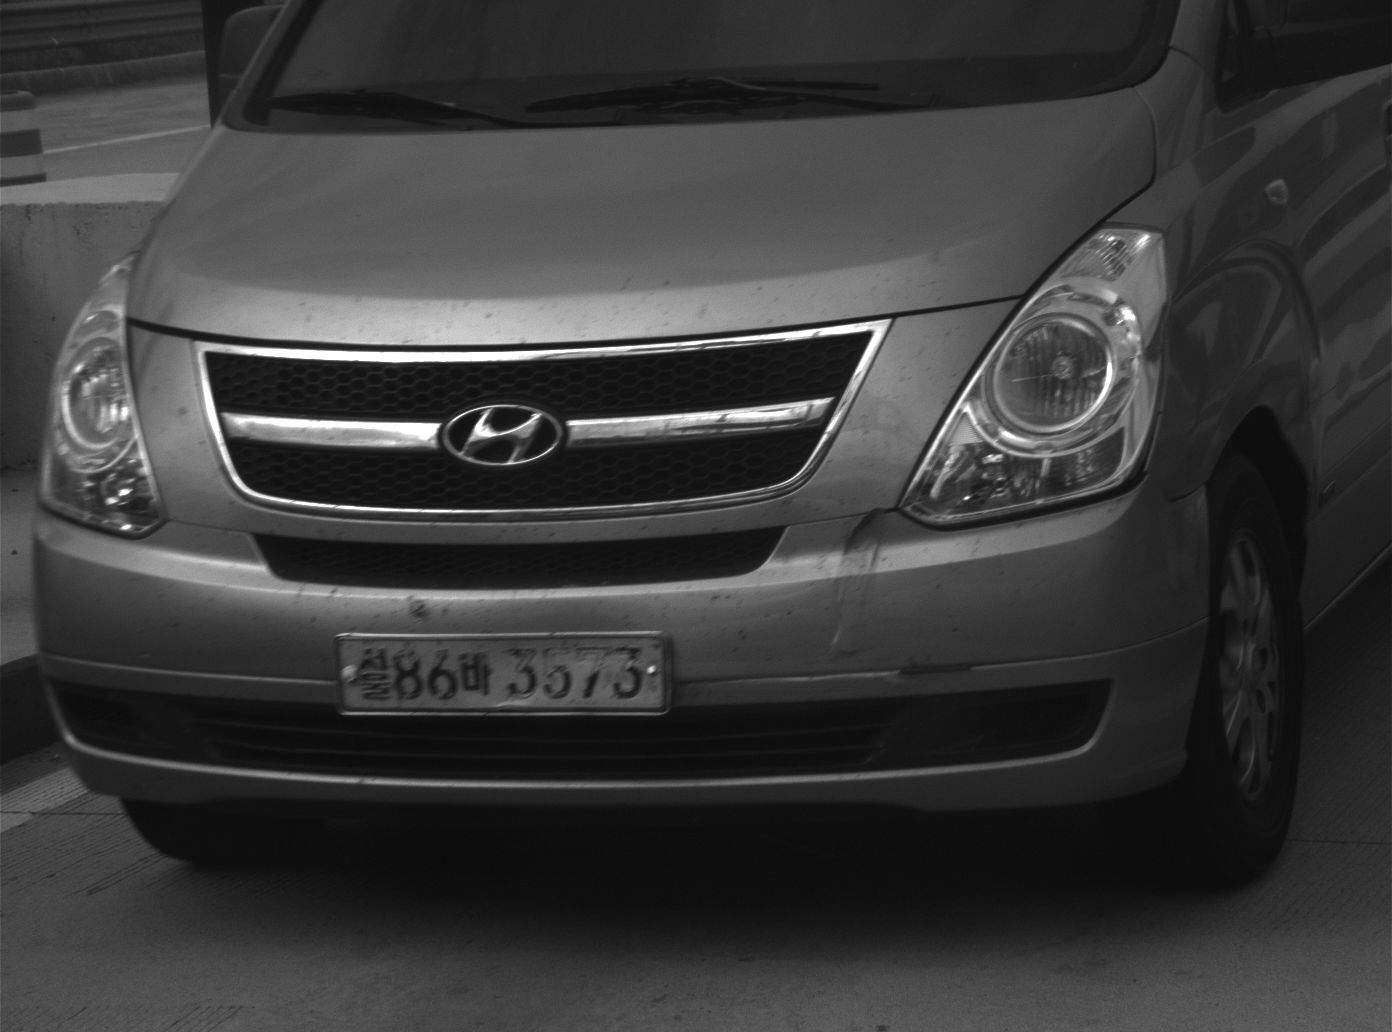car: (29, 1, 1392, 896)
plate: (332, 631, 671, 716)
